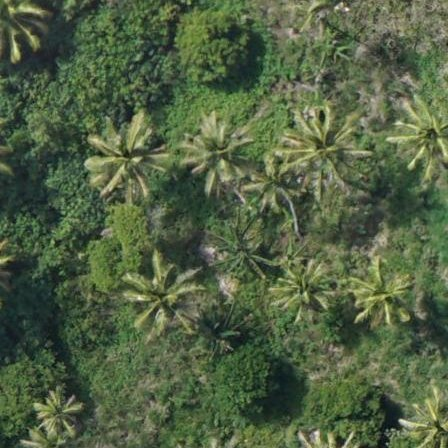palm_tree: (83, 109, 170, 201), (123, 256, 199, 333), (279, 108, 353, 182), (186, 117, 257, 193), (395, 105, 448, 175), (353, 264, 411, 326), (32, 382, 88, 443), (273, 263, 331, 319)
